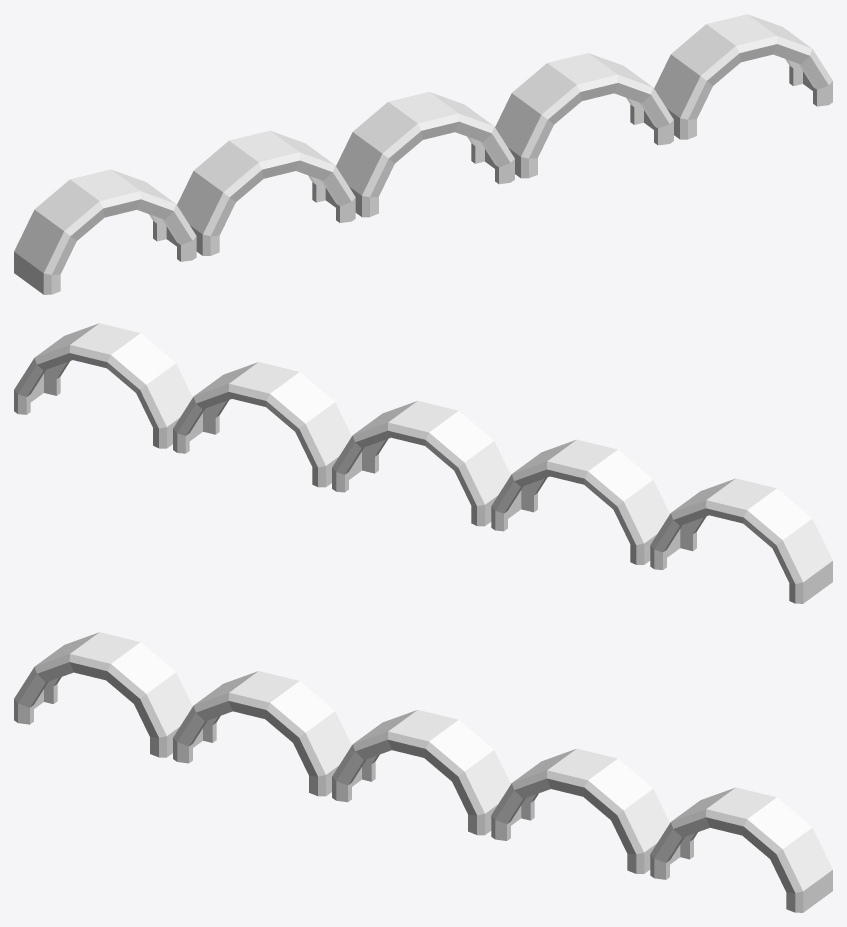
File: Prop_Tire_Wall_01.glb
3 views of the same model, one above another, from view 1: azimuth 30°, elevation 25°; view 2: azimuth 150°, elevation 25°; view 3: azimuth 330°, elevation 25° (orthographic).
Parts seen in each view (by area): view 1: Prop_Tire_Wall_01; view 2: Prop_Tire_Wall_01; view 3: Prop_Tire_Wall_01.
Part boxes in pixels (x1,y1,x2,y2): Prop_Tire_Wall_01: [14, 14, 832, 294]; Prop_Tire_Wall_01: [14, 323, 832, 603]; Prop_Tire_Wall_01: [14, 632, 832, 912].
Bounding box in the file's own units: 4.14 × 0.4009 × 0.3049.
1 material, 1 textured.
